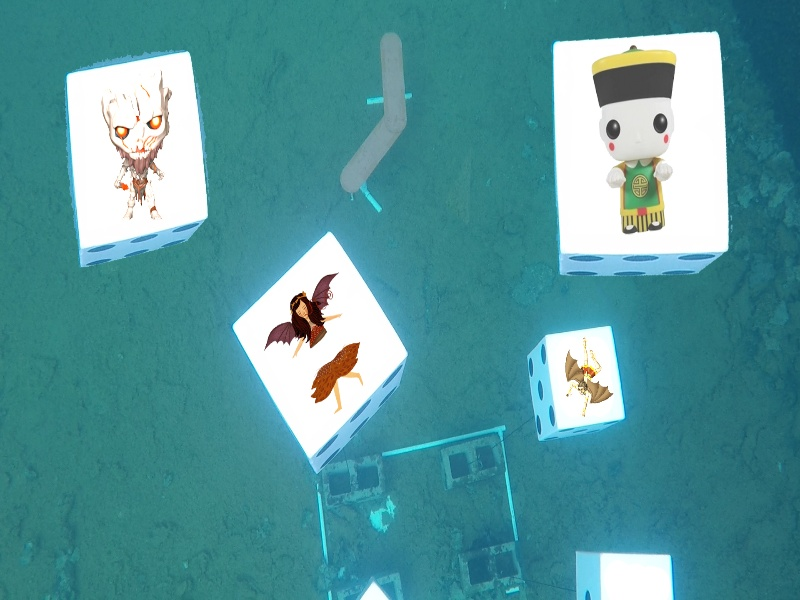Aswang: (265, 268, 367, 412)
Draugr: (99, 68, 181, 221)
Jiangshi: (591, 43, 676, 234)
Vetalas: (559, 335, 615, 414)
